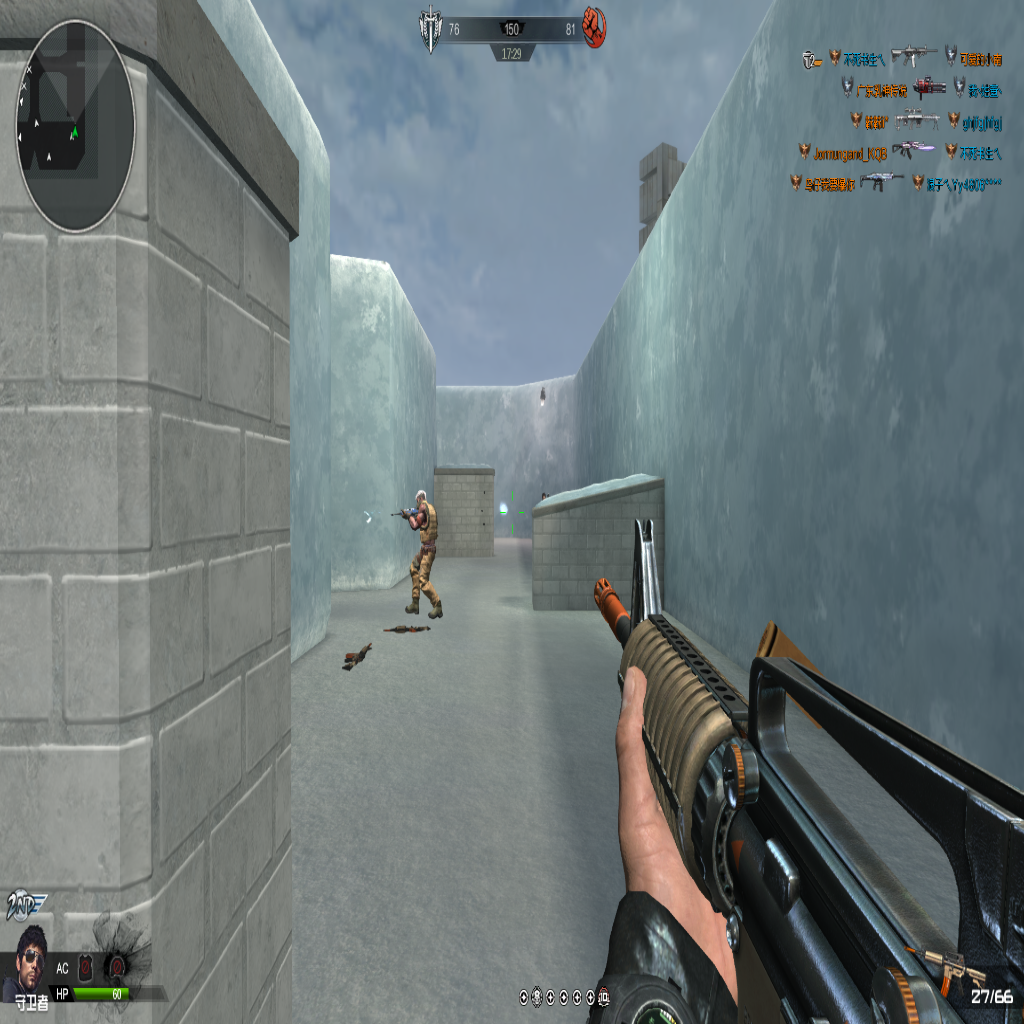tt: (398, 490, 439, 621)
